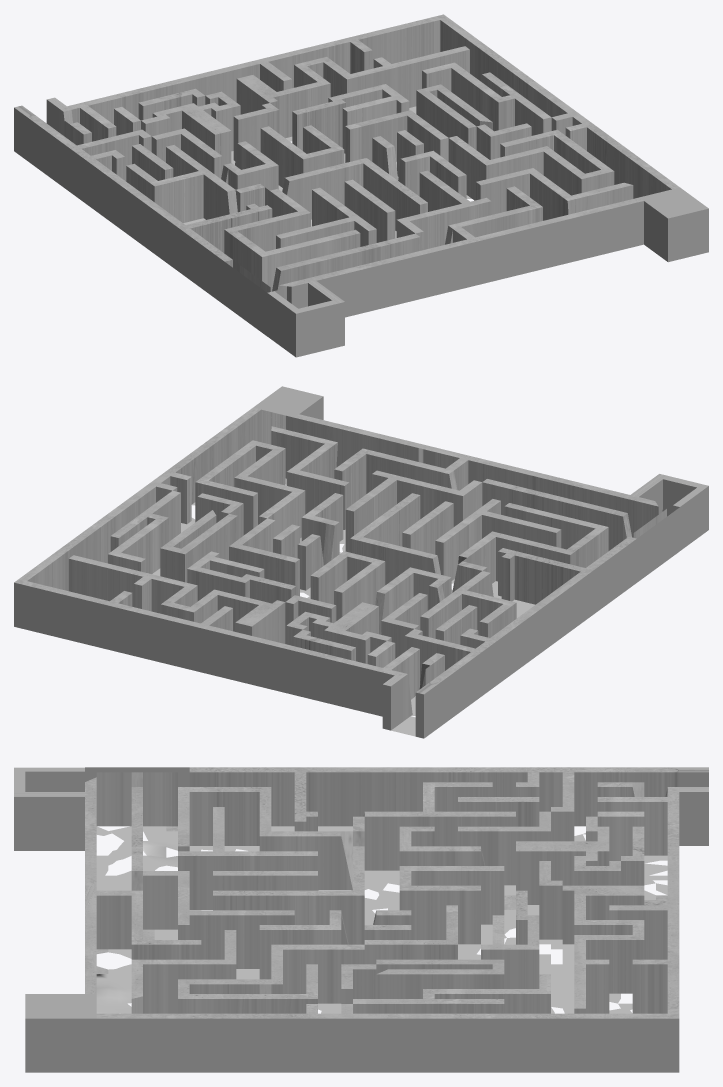
Rendered from Maze_map_1.fbx.
The picture shows the model from 3 angles, top to bottom: view 1: azimuth 30°, elevation 25°; view 2: azimuth 150°, elevation 25°; view 3: azimuth 270°, elevation 25°; orthographic projection. The views are drawn at different scales.
Parts seen in each view (by area): view 1: Walls; view 2: Walls, Ground; view 3: Walls, Ground.
Part boxes in pixels (x1=…): Walls: x1=14, y1=14, x2=708, y2=357; Walls: x1=14, y1=386, x2=708, y2=738; Ground: x1=152, y1=478, x2=535, y2=736; Walls: x1=14, y1=767, x2=708, y2=1072; Ground: x1=96, y1=826, x2=667, y2=1013.
Bounding box in the file's own units: 2000 × 228 × 2338.
